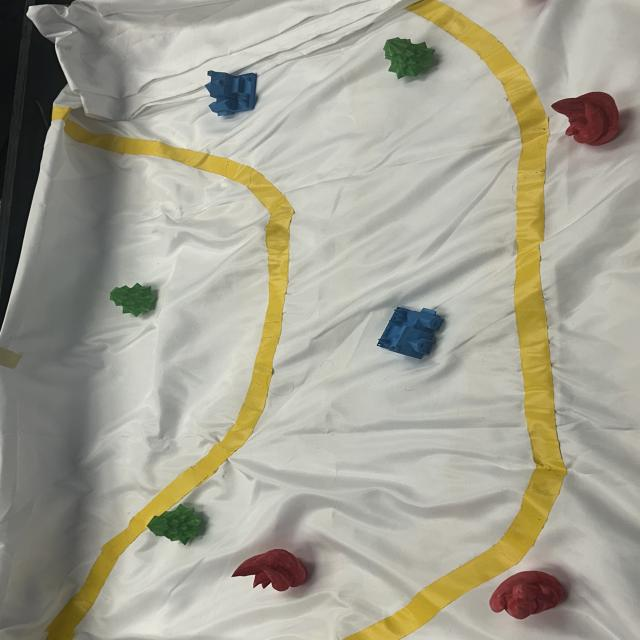fire: (550, 92, 626, 147), (489, 573, 567, 620), (230, 547, 310, 592)
house: (374, 303, 446, 361), (201, 68, 264, 120)
tree: (381, 36, 444, 84), (144, 503, 207, 545), (106, 282, 160, 316)
